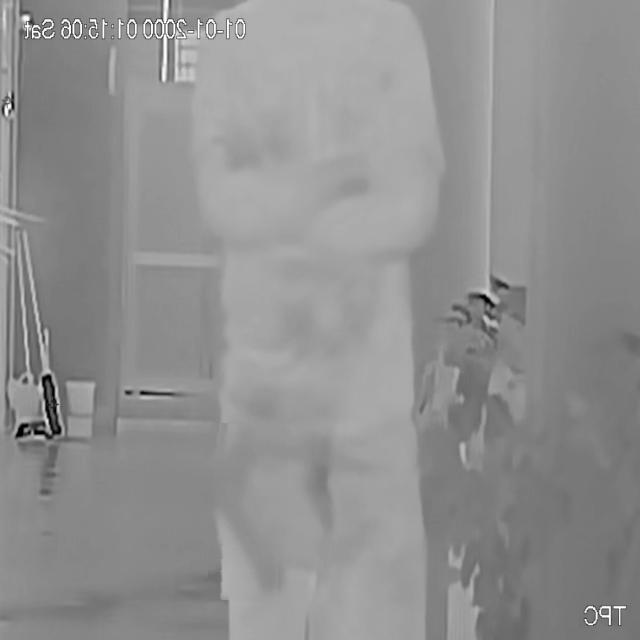Weapon: (210, 424, 288, 604)
